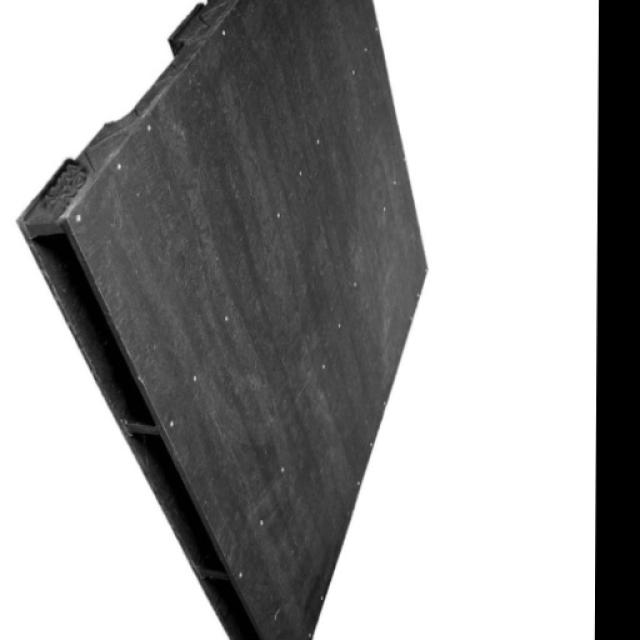non-igps: (11, 0, 436, 640)
